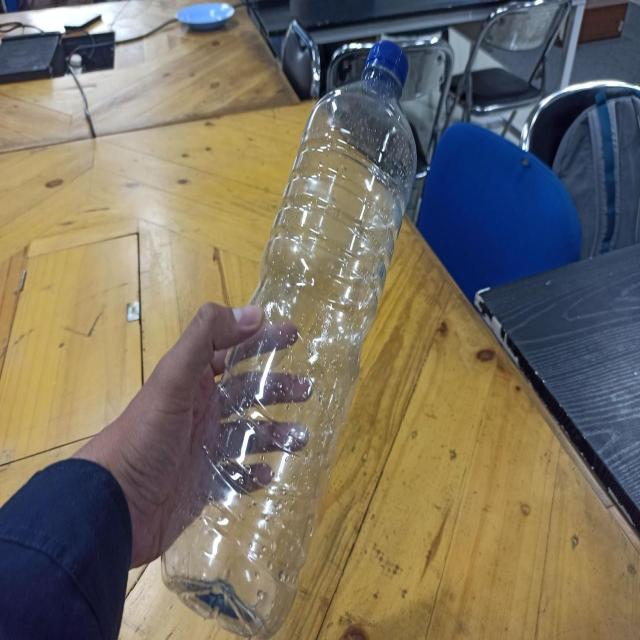BotolPlastik: (159, 38, 418, 637)
